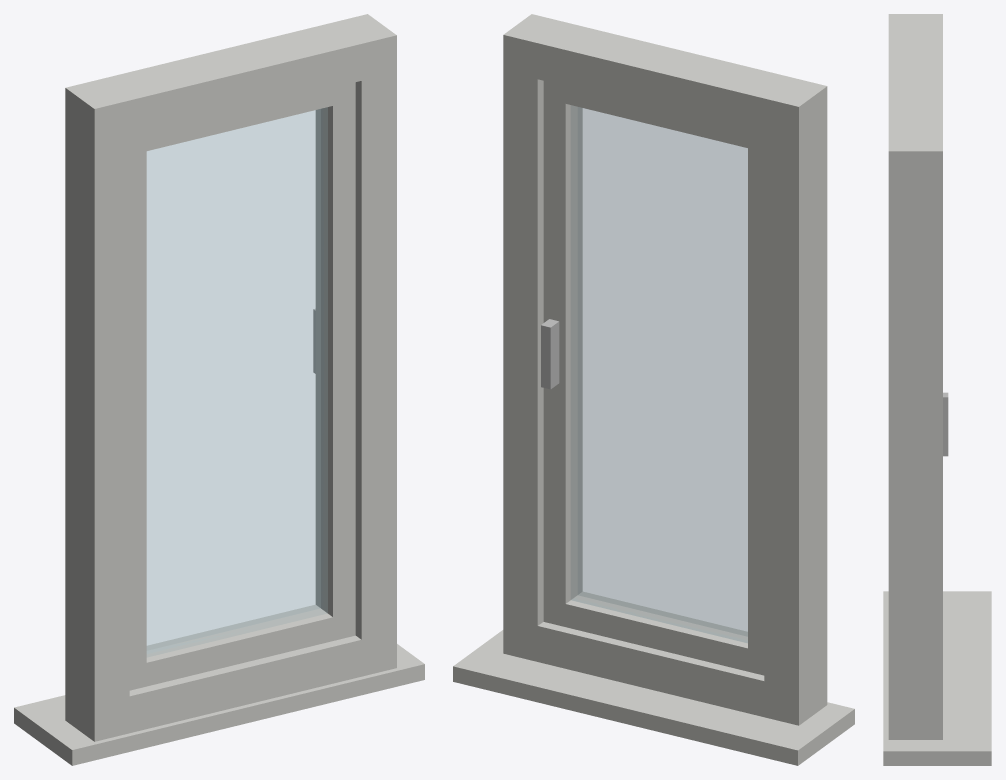
Rendered from opening.window.casement_600x1200.glb.
3 views of the same model, side by side, from view 1: azimuth 30°, elevation 25°; view 2: azimuth 150°, elevation 25°; view 3: azimuth 270°, elevation 25° (orthographic). The views are drawn at different scales.
Visible parts, largest first — view 1: frame__paint_white, glazing__glass; view 2: frame__paint_white, glazing__glass, ironmongery__steel_stainless; view 3: frame__paint_white, ironmongery__steel_stainless.
Boxes of the visible parts, x1=… form: frame__paint_white: x1=14, y1=14, x2=424, y2=765; glazing__glass: x1=147, y1=107, x2=327, y2=656; frame__paint_white: x1=453, y1=14, x2=854, y2=765; glazing__glass: x1=571, y1=105, x2=747, y2=642; ironmongery__steel_stainless: x1=541, y1=319, x2=559, y2=389; frame__paint_white: x1=883, y1=14, x2=991, y2=765; ironmongery__steel_stainless: x1=943, y1=392, x2=948, y2=456.
Bounding box in the file's own units: 0.7 × 1.23 × 0.2.
